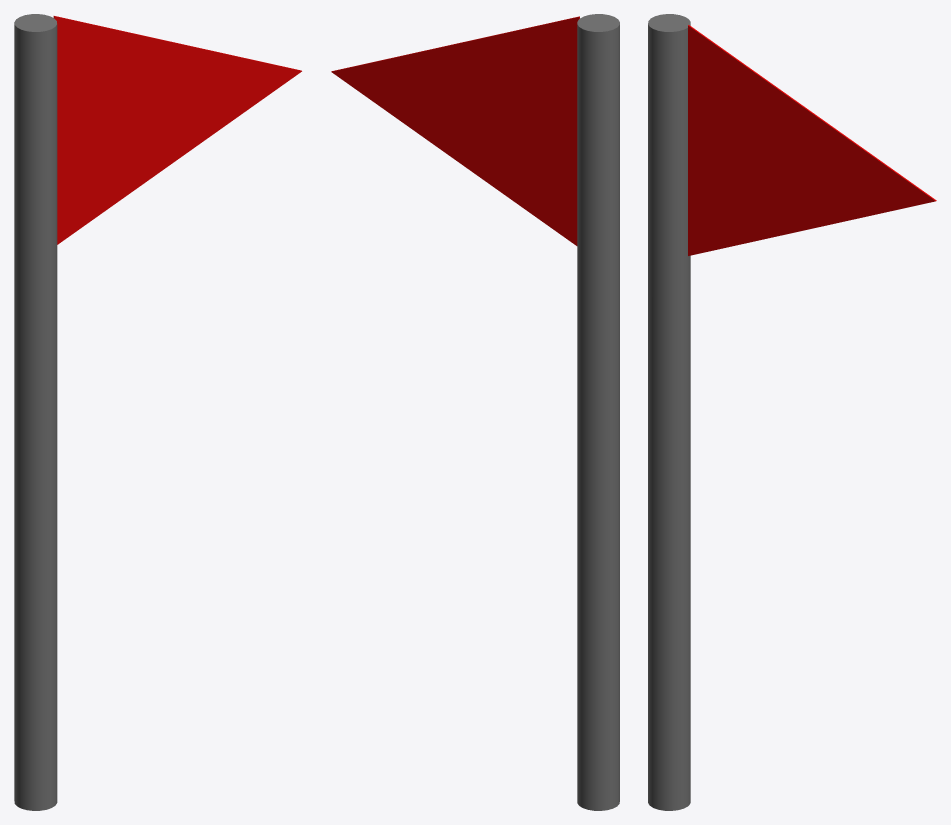
The model's file is Flags.fbx.
The picture shows the model from 3 angles, left to right: view 1: azimuth 30°, elevation 25°; view 2: azimuth 150°, elevation 25°; view 3: azimuth 330°, elevation 25°; orthographic projection.
Parts seen in each view (by area): view 1: Pole, Flag; view 2: Pole, Flag; view 3: Pole, Flag.
Part boxes in pixels (box(x1,y1,x2,y2)): Pole: box(14, 14, 57, 810); Flag: box(53, 16, 301, 244); Pole: box(577, 14, 619, 810); Flag: box(331, 16, 579, 245); Pole: box(648, 14, 690, 810); Flag: box(688, 25, 936, 255).
Size of the model in its own units: 7.67 by 20.06 by 1.
